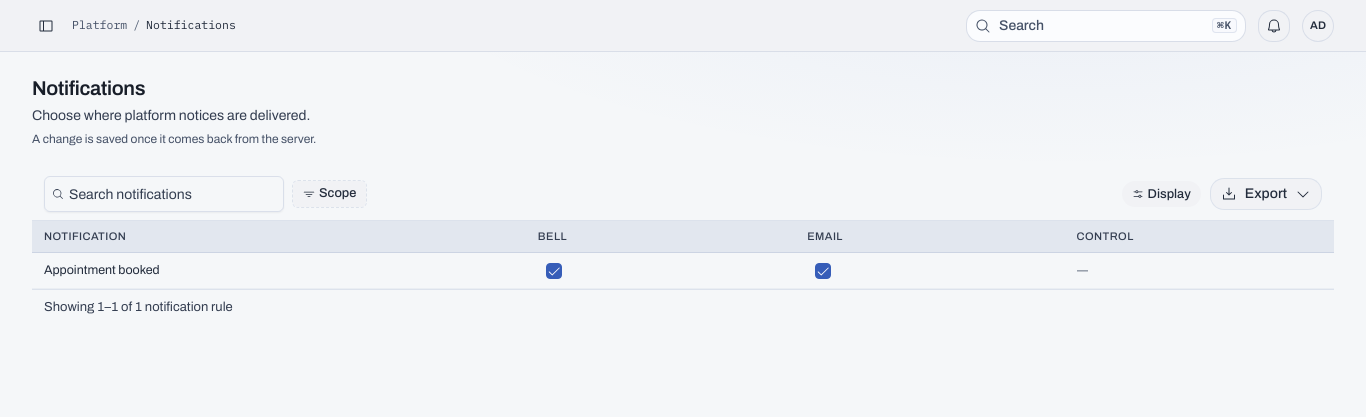
it: AlertSettings › serializes writes until the current preference is read back
The width and height of the screenshot is (1366, 417).
Click the 1st checkbox named "Bell for Appointment booked" at (554, 270), box x1=546 y1=262 x2=562 y2=278
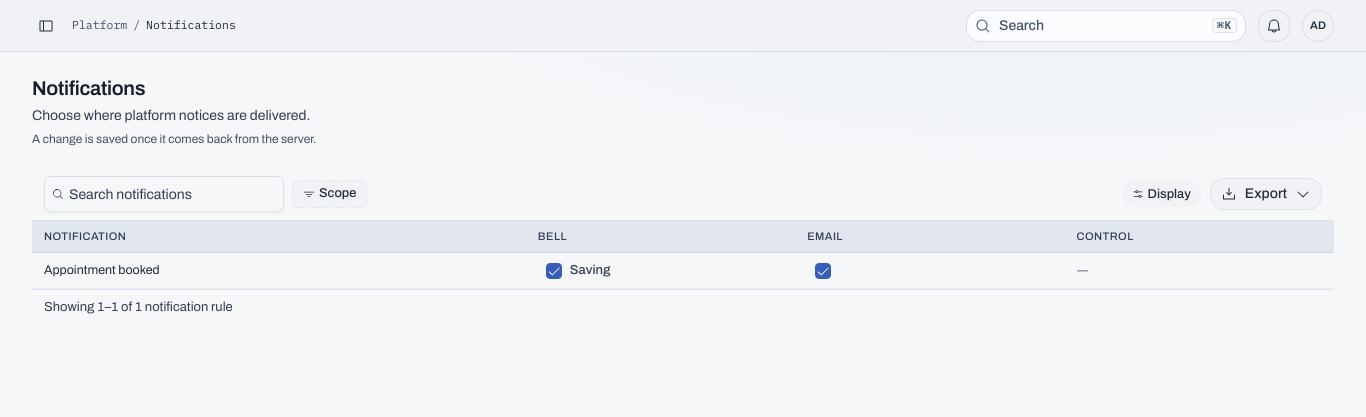
Click the 2nd checkbox named "Email for Appointment booked" at (823, 270), box x1=815 y1=262 x2=831 y2=278
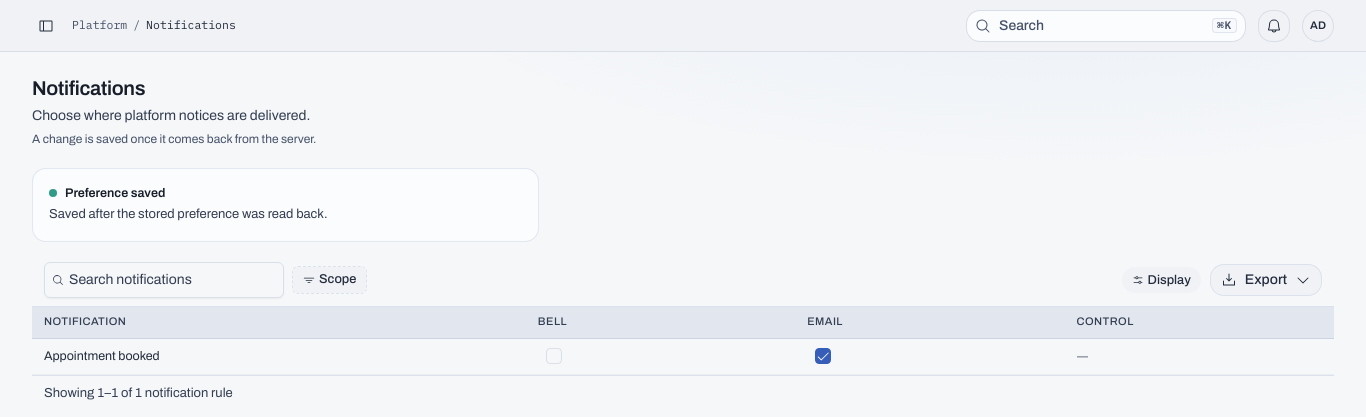
Result: the text "Saved after the stored preference was read back." is shown at x1=49 y1=207 x2=328 y2=221
Result: the 1st checkbox named "Bell for Appointment booked" is not checked at x1=546 y1=348 x2=562 y2=364
